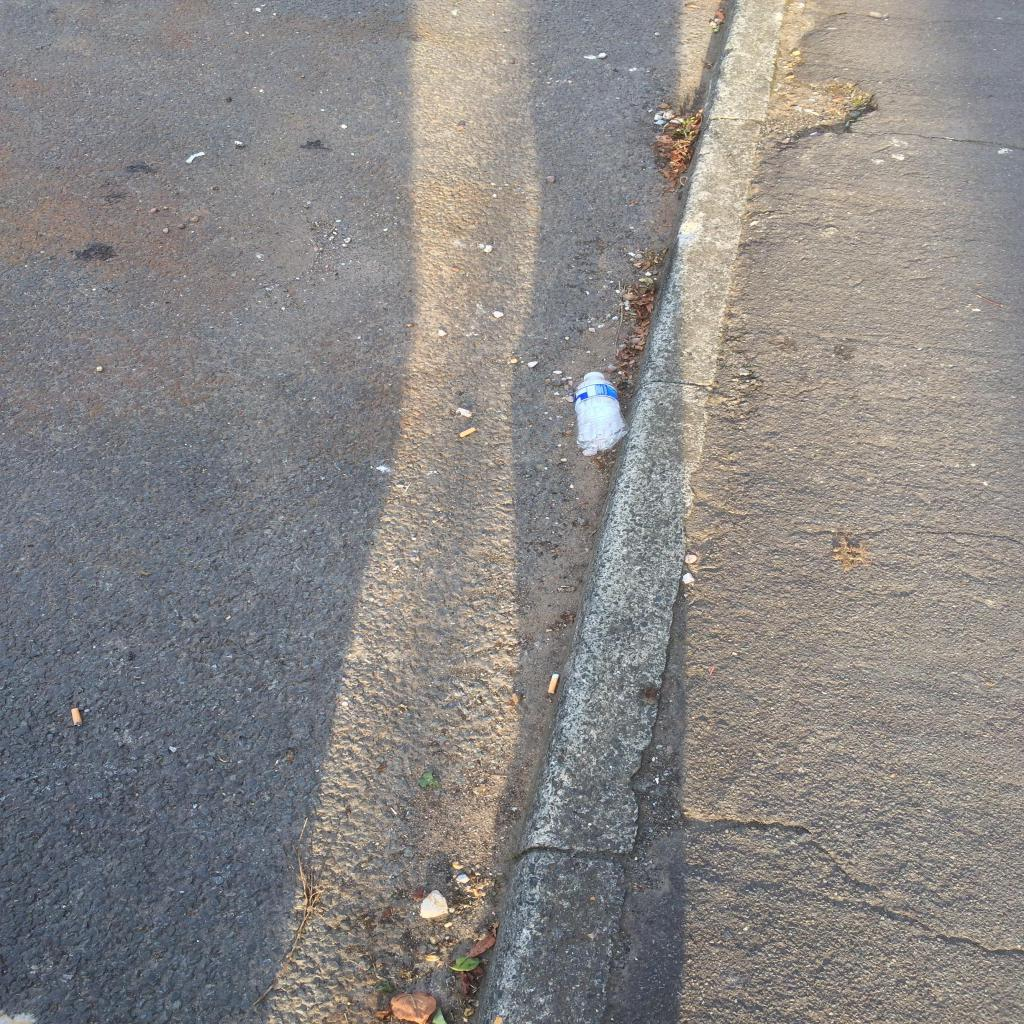Cigarette: (548, 674, 560, 694), (186, 152, 206, 164), (71, 708, 83, 726), (460, 428, 476, 438)
Clear plastic bottle: (574, 372, 630, 451)
